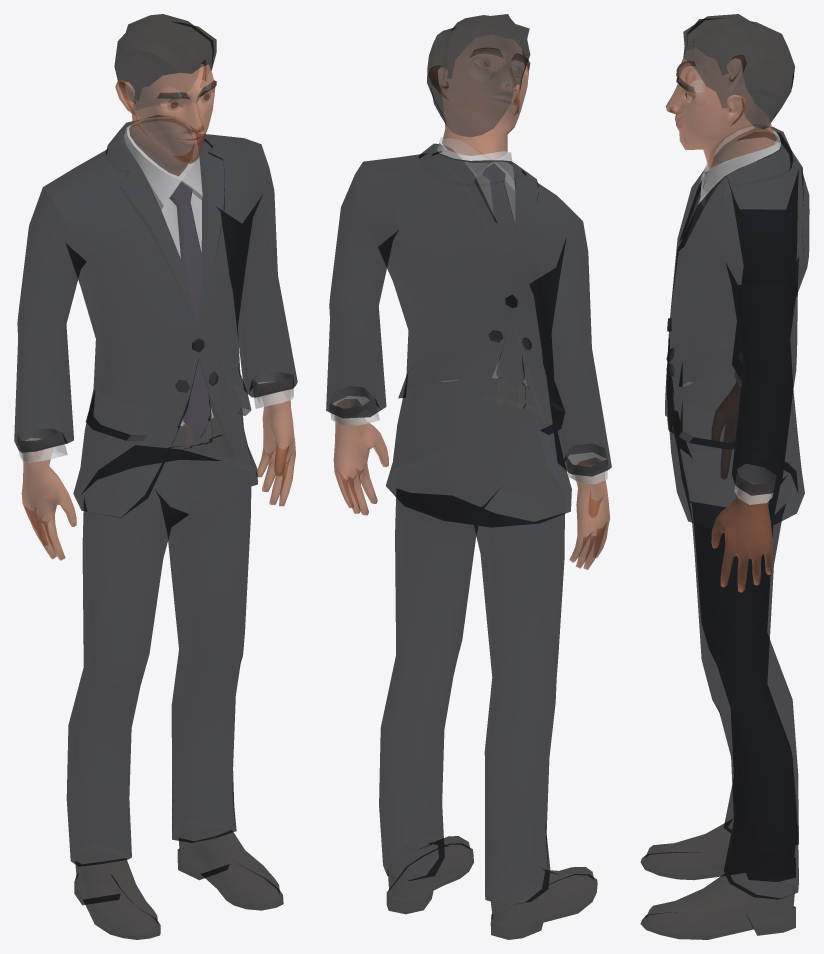
Rendered from man_in_suit.obj.
3 views of the same model, side by side, from view 1: azimuth 30°, elevation 25°; view 2: azimuth 150°, elevation 25°; view 3: azimuth 270°, elevation 25° (orthographic).
Parts seen in each view (by area): view 1: man_in_suit_suit_001, man_in_suit_skin_001, man_in_suit_leather_001, man_in_suit_hair_001, man_in_suit_sole_001, man_in_suit_shirt_001, man_in_suit_tie_001; view 2: man_in_suit_suit_001, man_in_suit_skin_001, man_in_suit_hair_001, man_in_suit_leather_001, man_in_suit_sole_001, man_in_suit_shirt_001, man_in_suit_tie_001; view 3: man_in_suit_suit_001, man_in_suit_skin_001, man_in_suit_leather_001, man_in_suit_hair_001, man_in_suit_sole_001, man_in_suit_shirt_001, man_in_suit_tie_001, man_in_suit_eye_mat1_001.
Part boxes in pixels (<box>): man_in_suit_suit_001: <box>14,115,297,866</box>; man_in_suit_skin_001: <box>21,61,295,560</box>; man_in_suit_leather_001: <box>75,417,280,933</box>; man_in_suit_hair_001: <box>114,14,216,110</box>; man_in_suit_sole_001: <box>74,845,283,939</box>; man_in_suit_shirt_001: <box>18,117,293,462</box>; man_in_suit_tie_001: <box>169,182,211,437</box>; man_in_suit_suit_001: <box>326,143,611,905</box>; man_in_suit_skin_001: <box>333,34,610,569</box>; man_in_suit_hair_001: <box>427,14,530,137</box>; man_in_suit_leather_001: <box>388,378,594,924</box>; man_in_suit_sole_001: <box>386,844,597,939</box>; man_in_suit_shirt_001: <box>330,137,607,484</box>; man_in_suit_tie_001: <box>482,163,524,392</box>; man_in_suit_suit_001: <box>666,126,809,899</box>; man_in_suit_skin_001: <box>665,48,776,592</box>; man_in_suit_leather_001: <box>645,411,795,933</box>; man_in_suit_hair_001: <box>676,14,794,128</box>; man_in_suit_sole_001: <box>640,852,795,939</box>; man_in_suit_shirt_001: <box>673,124,780,504</box>; man_in_suit_tie_001: <box>665,179,705,416</box>; man_in_suit_eye_mat1_001: <box>688,66,704,106</box>.
Bounding box in the file's own units: 72.42 × 217 × 37.91.
